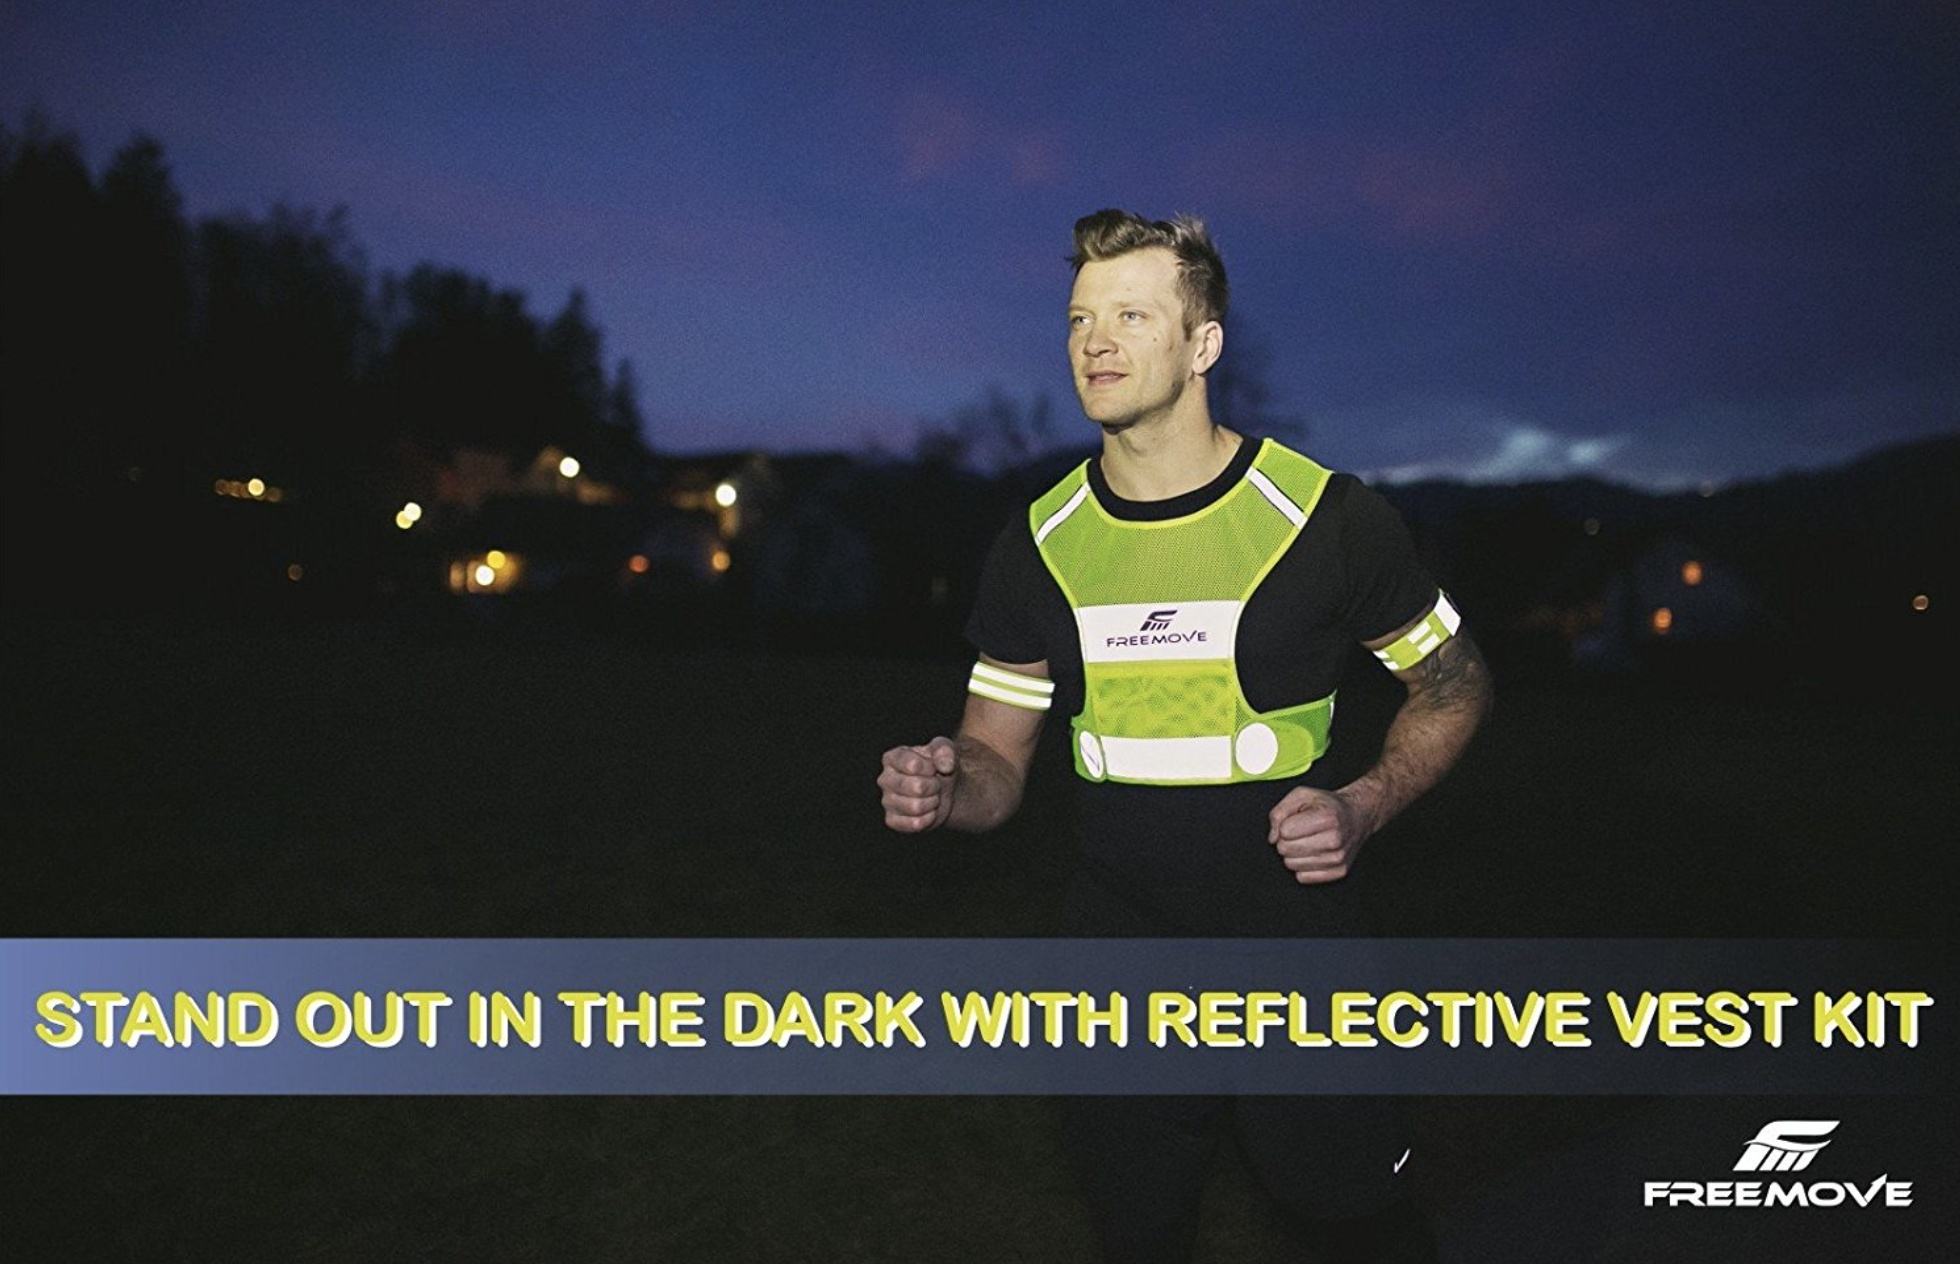person with partial safety: (945, 204, 1428, 944)
safety vest: (1023, 443, 1358, 789)
